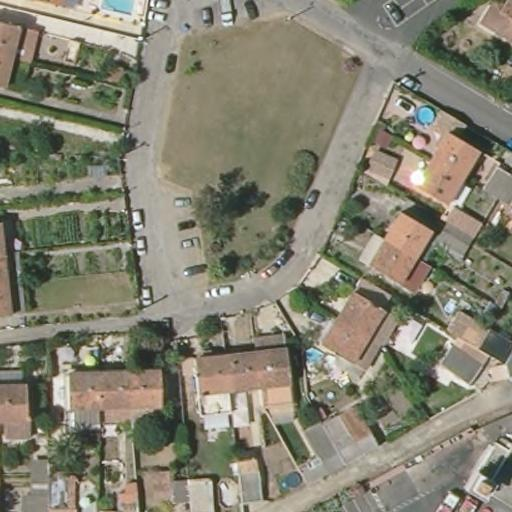pool: (98, 0, 142, 15), (307, 339, 329, 367), (412, 102, 437, 126)
